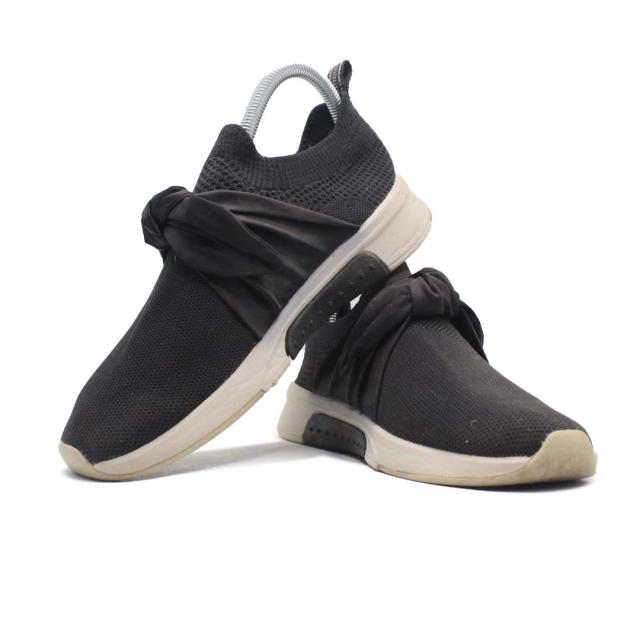heel: (321, 60, 399, 211)
midsole: (59, 174, 433, 481), (279, 382, 596, 485)
uppersole: (61, 125, 374, 463), (309, 263, 590, 458)
